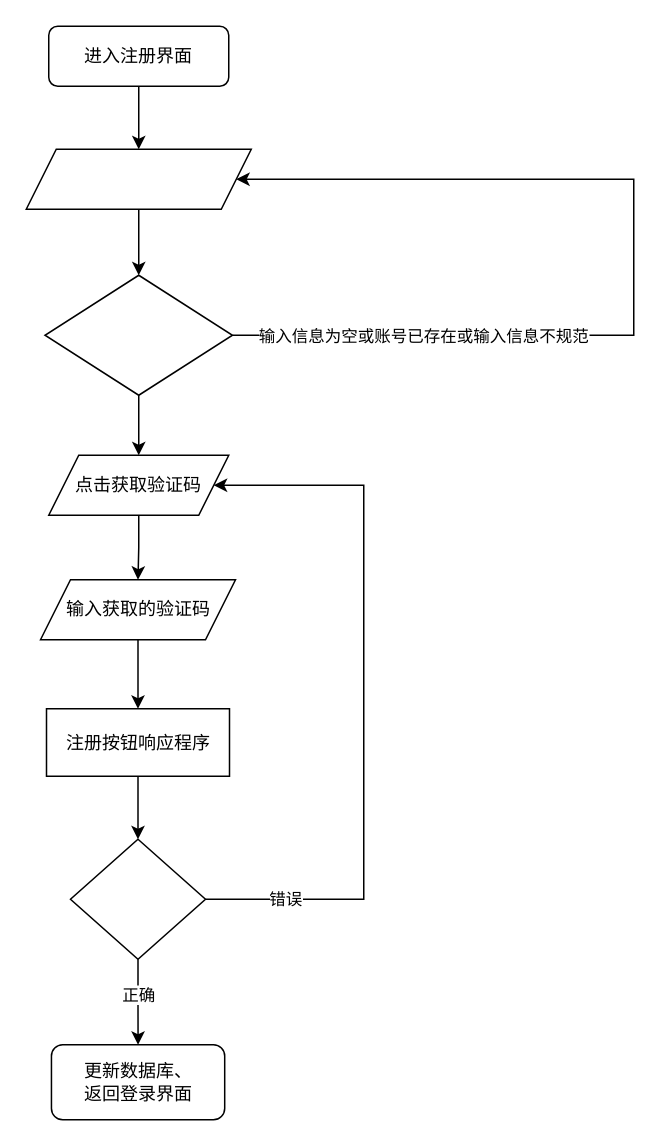
This 672x1146 diagram has some shape labels left out. The shapes that lost their labels are listed below. From the top down, each one's box as (x1, y1, x2, y2) in pixels, then its label:
(25, 148, 251, 209): 选择身份，输入账号 、密码、手机号码
(44, 274, 232, 395): 判断用户输入信息
(69, 838, 206, 959): 判断验证码
